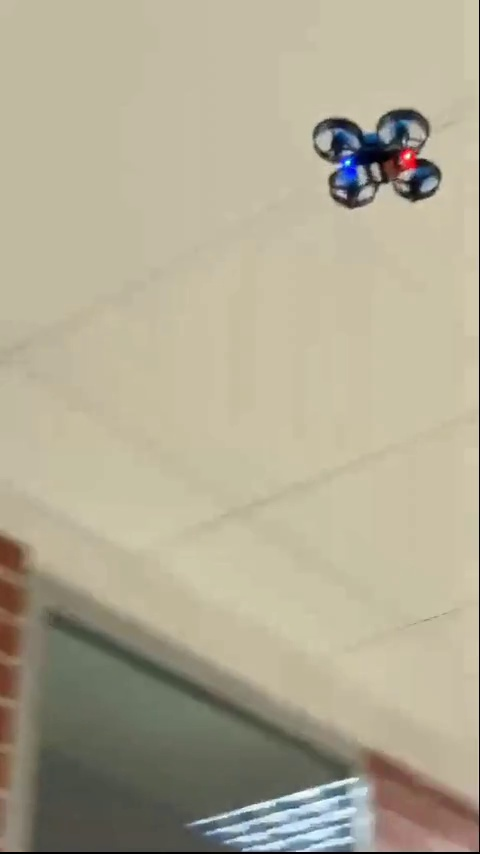drone: (309, 108, 442, 208)
